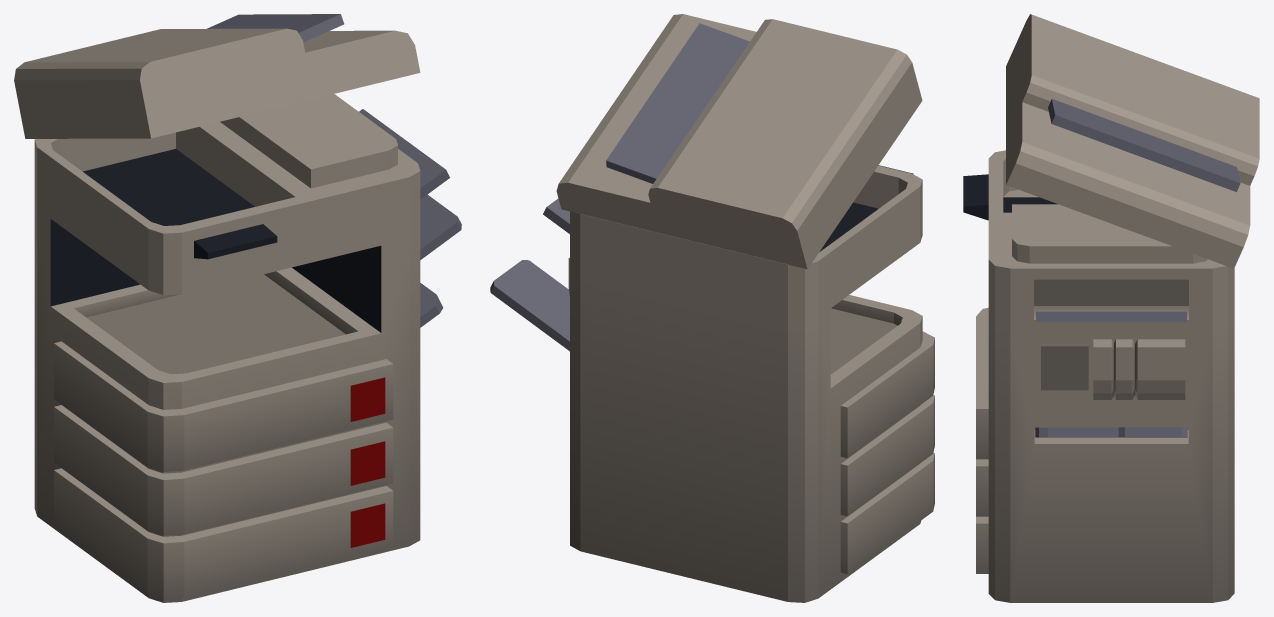
The model's file is Printer.fbx.
3 renders of one model, left to right at view 1: azimuth 30°, elevation 25°; view 2: azimuth 150°, elevation 25°; view 3: azimuth 270°, elevation 25°, orthographic. The views are drawn at different scales.
Parts seen in each view (by area): view 1: Printer; view 2: Printer; view 3: Printer.
Boxes of the visible parts, x1,y1,x2,y2 form: Printer: (14,14,461,602); Printer: (490,14,934,602); Printer: (963,14,1259,602).
Size of the model in its own units: 132 by 172 by 97.22.
